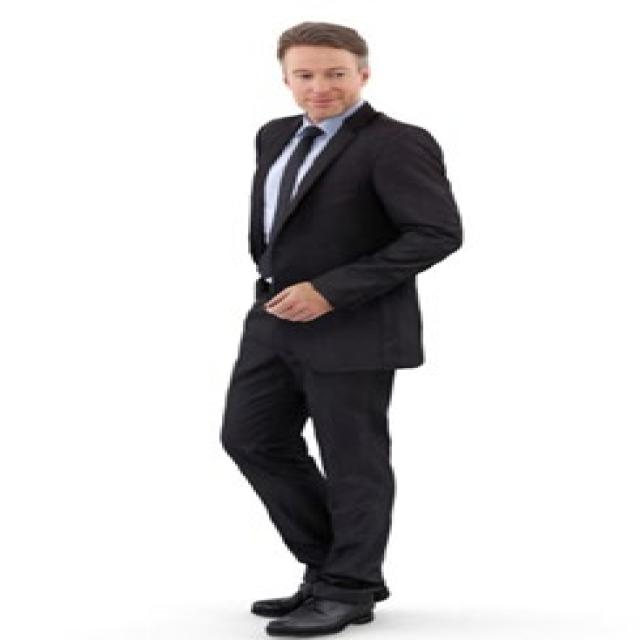standing: (214, 20, 466, 640)
